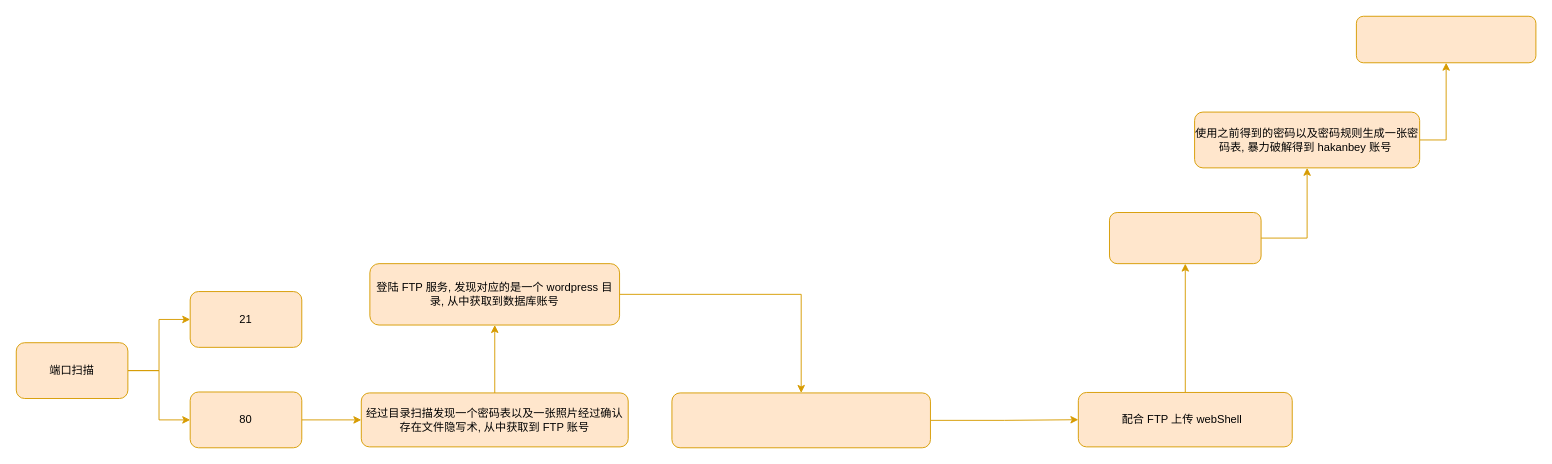
The diagram is 1552 pixels wide and 464 high, and some of its shapes have lost their labels. The shapes that lost their labels are listed below. From the top down, each one's box as (x1, y1, x2, y2) in pixels, then its label:
(1355, 15, 1536, 63): 发现存在一个定时 python 任务, 通过修改 os.py 完成提权
(1109, 212, 1261, 264): 得到用户 www-data 的 Shell
(671, 392, 930, 448): 使用得到的账号登陆 phpmyadmin , 修改管理员密码, 并且从中发现一个新的子域
